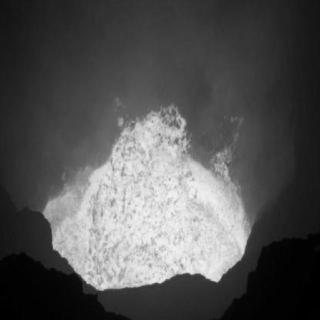Fire: (34, 85, 258, 292)
